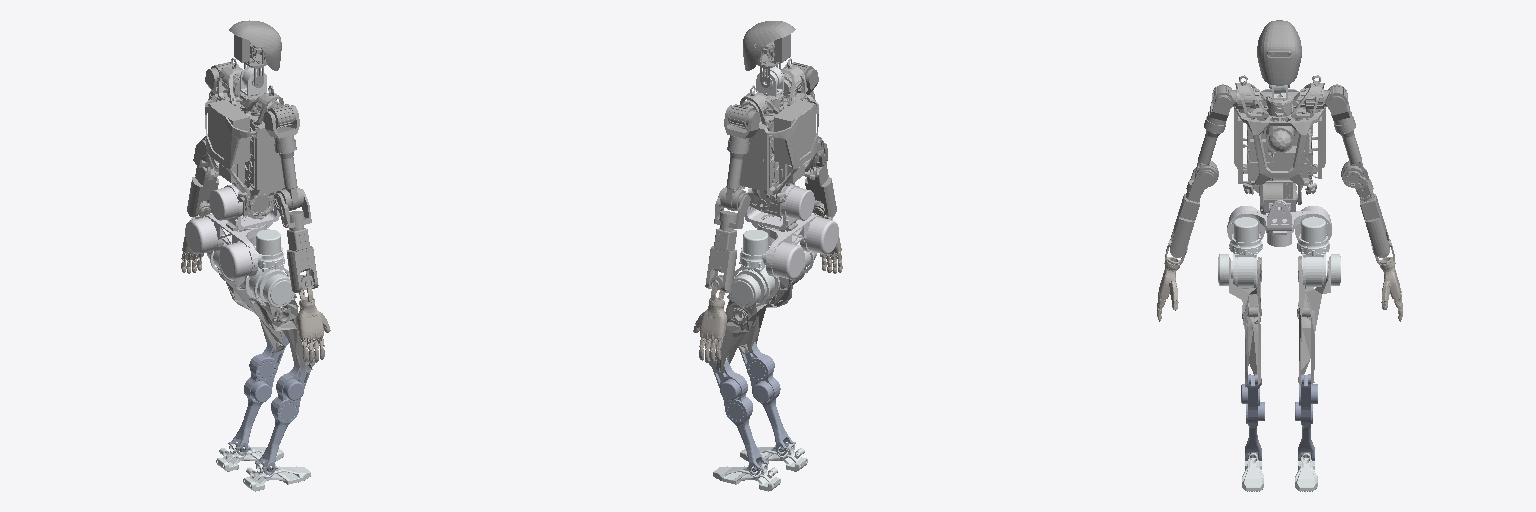
--- Render facts (derived) ---
The picture shows the robot from 3 angles, left to right: view 1: azimuth 30°, elevation 25°; view 2: azimuth 150°, elevation 25°; view 3: azimuth 270°, elevation 25°; orthographic projection.
Robot: OpenLoog — 34 links, 33 joints (12 revolute, 21 fixed); root link base; default pose: every joint at zero.
Links seen in each view (by area): view 1: base_link, Link_waist_yaw, Link_head_pitch, Link_knee_l_pitch, Link_knee_r_pitch, Link_arm_r_07, Link_hip_r_yaw, Link_waist_roll, Link_hip_r_pitch, Link_arm_r_05, Link_hip_l_pitch, Link_r_ankle_roll (+6 smaller); view 2: base_link, Link_waist_yaw, Link_head_pitch, Link_knee_l_pitch, Link_knee_r_pitch, Link_waist_roll, Link_arm_l_07, Link_hip_l_yaw, Link_hip_l_pitch, Link_arm_l_05, Link_l_ankle_roll, Link_hip_l_roll (+6 smaller); view 3: base_link, Link_head_pitch, Link_hip_r_pitch, Link_hip_l_pitch, Link_waist_yaw, Link_knee_l_pitch, Link_knee_r_pitch, Link_hip_r_yaw, Link_hip_l_yaw, Link_arm_l_05, Link_arm_r_05, Link_hip_r_roll (+12 smaller).
Boxes of the visible links, x1,y1,x2,y2 form: base_link: (205, 58, 287, 218); Link_waist_yaw: (185, 214, 272, 279); Link_head_pitch: (229, 20, 281, 87); Link_knee_l_pitch: (228, 331, 288, 455); Link_knee_r_pitch: (255, 350, 315, 475); Link_arm_r_07: (297, 280, 330, 362); Link_hip_r_yaw: (244, 265, 294, 307); Link_waist_roll: (209, 185, 279, 229); Link_hip_r_pitch: (255, 294, 312, 372); Link_arm_r_05: (287, 228, 318, 292); Link_hip_l_pitch: (217, 267, 284, 352); Link_r_ankle_roll: (243, 463, 310, 491); base_link: (738, 58, 818, 211); Link_waist_yaw: (752, 214, 838, 279); Link_head_pitch: (743, 21, 795, 87); Link_knee_l_pitch: (708, 350, 768, 475); Link_knee_r_pitch: (738, 342, 795, 455); Link_waist_roll: (745, 185, 814, 229); Link_arm_l_07: (693, 280, 726, 362); Link_hip_l_yaw: (729, 264, 779, 307); Link_hip_l_pitch: (716, 295, 768, 371); Link_arm_l_05: (705, 228, 736, 292); Link_l_ankle_roll: (713, 464, 780, 491); Link_hip_l_roll: (739, 230, 768, 268); base_link: (1234, 75, 1325, 211); Link_head_pitch: (1257, 20, 1301, 87); Link_hip_r_pitch: (1229, 257, 1261, 388); Link_hip_l_pitch: (1297, 256, 1330, 385); Link_waist_yaw: (1227, 206, 1331, 246); Link_knee_l_pitch: (1295, 374, 1317, 460); Link_knee_r_pitch: (1241, 374, 1264, 460); Link_hip_r_yaw: (1218, 253, 1256, 290); Link_hip_l_yaw: (1302, 254, 1340, 288); Link_arm_l_05: (1360, 194, 1389, 257); Link_arm_r_05: (1170, 194, 1199, 257); Link_hip_r_roll: (1229, 217, 1262, 255).
Bounding box of the posed robot: 0.3803 × 0.8769 × 1.75 m (x, y, z).
Meshes: 32 distinct files referenced, 32 mesh visuals loaded (32 binary STL).

The robot description file, URDF, robot "OpenLoog":
<?xml version="1.0" encoding="utf-8"?>
<!-- This URDF was automatically created by SolidWorks to URDF Exporter! Originally created by Stephen Brawner ([email redacted]) 
     Commit Version: 1.6.0-4-g7f85cfe  Build Version: 1.6.7995.38578
     For more information, please see http://wiki.ros.org/sw_urdf_exporter -->
<robot
  name="OpenLoog">
     
  <!-- <mujoco>
    <compiler 
    meshdir="" 
    balanceinertia="true" 
    discardvisual="false" />
  </mujoco> -->

  <!-- ros_control plugin -->
  <gazebo>
    <plugin filename="libgazebo_ros_control.so" name="gazebo_ros_control">
      <robotNamespace>/openloong_gazebo</robotNamespace>
      <robotSimType>gazebo_ros_control/DefaultRobotHWSim</robotSimType>
    </plugin>
  </gazebo>

    <gazebo>
    <plugin filename="libgazebo_ros_force.so" name="gazebo_ros_force">
      <bodyName>base_link</bodyName>
      <topicName>/apply_force/base_link</topicName>
    </plugin>
  </gazebo>

  <gazebo reference="imu_link">
    <gravity>true</gravity>
    <sensor name="imu_sensor" type="imu">
      <always_on>true</always_on>
      <update_rate>1000</update_rate>
      <visualize>true</visualize>
      <topic>__default_topic__</topic>
      <plugin filename="libgazebo_ros_imu_sensor.so" name="imu_plugin">
        <topicName>base_link_imu</topicName>
        <bodyName>imu_link</bodyName>
        <updateRateHZ>1000.0</updateRateHZ>
        <gaussianNoise>0.0</gaussianNoise>
        <xyzOffset>0 0 0</xyzOffset>
        <rpyOffset>0 0 0</rpyOffset>
        <frameName>imu_link</frameName>
      </plugin>
      <pose>0 0 0 0 0 0</pose>
    </sensor>
  </gazebo>

  <gazebo reference="base">
    <material>Gazebo/DarkGrey</material>
    <turnGravityOff>false</turnGravityOff>
  </gazebo>
  <gazebo reference="base_link">
    <mu1>0.2</mu1>
    <mu2>0.2</mu2>
    <kp value="1000000.0"/>
    <kd value="1.0"/>
  </gazebo>
  <gazebo reference="imu_link">
    <mu1>0.2</mu1>
    <mu2>0.2</mu2>
    <material>Gazebo/Red</material>
  </gazebo>
  <!-- left leg -->
  <gazebo reference="Link_hip_l_roll">
    <mu1>0.2</mu1>
    <mu2>0.2</mu2>
    <self_collide>1</self_collide>
    <material>Gazebo/DarkGrey</material>
  </gazebo>
  <gazebo reference="Link_hip_l_yaw">
    <mu1>0.2</mu1>
    <mu2>0.2</mu2>
    <self_collide>1</self_collide>
    <material>Gazebo/DarkGrey</material>
  </gazebo>
  <gazebo reference="Link_hip_l_pitch">
    <mu1>0.2</mu1>
    <mu2>0.2</mu2>
    <self_collide>1</self_collide>
    <material>Gazebo/DarkGrey</material>
  </gazebo>
  <gazebo reference="Link_knee_l_pitch">
    <mu1>0.2</mu1>
    <mu2>0.2</mu2>
    <self_collide>1</self_collide>
    <material>Gazebo/DarkGrey</material>
  </gazebo>
  <gazebo reference="Link_l_ankle_pitch">
    <mu1>1.0</mu1>
    <mu2>1.0</mu2>
    <self_collide>1</self_collide>
    <kp value="1000000.0"/>
    <kd value="1.0"/>
    <material>Gazebo/DarkGrey</material>
  </gazebo>
  <gazebo reference="Link_l_ankle_roll">
    <mu1>1.0</mu1>
    <mu2>1.0</mu2>
    <self_collide>1</self_collide>
    <kp value="1000000.0"/>
    <kd value="1.0"/>
    <material>Gazebo/DarkGrey</material>
  </gazebo>

  <!-- right leg -->
  <gazebo reference="Link_hip_r_roll">
    <mu1>0.2</mu1>
    <mu2>0.2</mu2>
    <self_collide>1</self_collide>
    <material>Gazebo/DarkGrey</material>
  </gazebo>
  <gazebo reference="Link_hip_r_yaw">
    <mu1>0.2</mu1>
    <mu2>0.2</mu2>
    <self_collide>1</self_collide>
    <material>Gazebo/DarkGrey</material>
  </gazebo>
  <gazebo reference="Link_hip_r_pitch">
    <mu1>0.2</mu1>
    <mu2>0.2</mu2>
    <self_collide>1</self_collide>
    <material>Gazebo/DarkGrey</material>
  </gazebo>
  <gazebo reference="Link_knee_r_pitch">
    <mu1>0.2</mu1>
    <mu2>0.2</mu2>
    <self_collide>1</self_collide>
    <material>Gazebo/DarkGrey</material>
  </gazebo>
  <gazebo reference="Link_r_ankle_pitch">
    <mu1>1.0</mu1>
    <mu2>1.0</mu2>
    <self_collide>1</self_collide>
    <kp value="1000000.0"/>
    <kd value="1.0"/>
    <material>Gazebo/DarkGrey</material>
  </gazebo>
  <gazebo reference="Link_r_ankle_roll">
    <mu1>1.0</mu1>
    <mu2>1.0</mu2>
    <self_collide>1</self_collide>
    <kp value="1000000.0"/>
    <kd value="1.0"/>
    <material>Gazebo/DarkGrey</material>
  </gazebo>

  <material name="black">
    <color rgba="0.0 0.0 0.0 1.0"/>
  </material>
  <material name="blue">
    <color rgba="0.0 0.0 0.8 1.0"/>
  </material>
  <material name="green">
    <color rgba="0.0 0.8 0.0 1.0"/>
  </material>
  <material name="grey">
    <color rgba="0.2 0.2 0.2 1.0"/>
  </material>
  <material name="silver">
    <color rgba="0.913725490196 0.913725490196 0.847058823529 1.0"/>
  </material>
  <material name="orange">
    <color rgba="0.12 0.15 0.2 1.0"/>
  </material>
  <material name="brown">
    <color rgba="0.870588235294 0.811764705882 0.764705882353 1.0"/>
  </material>
  <material name="red">
    <color rgba="0.8 0.0 0.0 1.0"/>
  </material>
  <material name="white">
    <color rgba="1.0 1.0 1.0 1.0"/>
  </material>
  <!-- [CAUTION] uncomment when convert to mujoco
  <link name="world"></link>
  <joint name="floating_base_joint" type="floating">
    <parent link="world" />
    <child link="base_link" />
  </joint> -->

  <link name="base">
    <visual>
      <origin rpy="0 0 0" xyz="0 0 0"/>
      <geometry>
        <box size="0.001 0.001 0.001"/>
      </geometry>
    </visual>
  </link>
  <joint name="floating_base" type="fixed">
    <origin rpy="0 0 0" xyz="0 0 0"/>
    <parent link="base"/>
    <child link="base_link"/>
  </joint>

  <link
    name="base_link">
    <inertial>
      <origin
        xyz="-0.0056641 -0.0013367 0.23829"
        rpy="0 0 0" />
      <mass
        value="22.447" />
      <inertia
        ixx="0.3742"
        ixy="0.0009471"
        ixz="0.004646"
        iyy="0.27691"
        iyz="0.0040142"
        izz="0.22104" />
    </inertial>
    <visual>
      <origin
        xyz="0 0 0"
        rpy="0 0 0" />
      <geometry>
        <mesh
          filename="package://openloong_description/meshes/base_link.STL" />
      </geometry>
      <material
        name="">
        <color
          rgba="0.75294 0.75294 0.75294 1" />
      </material>
    </visual>
     <collision>
      <origin xyz="0 0 0.16" rpy="0 0 0" />
      <geometry>
        <box size="0.35 0.25 0.35"/>
      </geometry>
    </collision>
    <!-- <collision>
      <origin
        xyz="0 0 0"
        rpy="0 0 0" />
      <geometry>
        <mesh
          filename="package://openloong_description/meshes/base_link.STL" />
      </geometry>
    </collision> -->
  </link>
  <link
    name="Link_head_yaw">
    <inertial>
      <origin
        xyz="4.6974E-12 -0.0020814 0.044801"
        rpy="0 0 0" />
      <mass
        value="0.84249" />
      <inertia
        ixx="0.000629"
        ixy="1.2848E-14"
        ixz="-1.5461E-10"
        iyy="0.0007003"
        iyz="-6.5E-06"
        izz="0.0005541" />
    </inertial>
    <visual>
      <origin
        xyz="0 0 0"
        rpy="0 0 0" />
      <geometry>
        <mesh
          filename="package://openloong_description/meshes/Link_head_yaw.STL" />
      </geometry>
      <material
        name="">
        <color
          rgba="0.89804 0.91765 0.92941 1" />
      </material>
    </visual>
    <collision>
      <origin
        xyz="0 0 0"
        rpy="0 0 0" />
      <geometry>
        <mesh
          filename="package://openloong_description/meshes/Link_head_yaw.STL" />
      </geometry>
    </collision>
  </link>
  <joint
    name="J_head_yaw"
    type="fixed">
    <origin
      xyz="0.009 0 0.4064"
      rpy="0 0 0" />
    <parent
      link="base_link" />
    <child
      link="Link_head_yaw" />
    <axis
      xyz="0 0 1" />
    <limit
      lower="-1.5708"
      upper="1.5708"
      effort="26"
      velocity="109.8" />
  </joint>
  <link
    name="Link_head_pitch">
    <inertial>
      <origin
        xyz="0.020569 0.033004 0.125"
        rpy="0 0 0" />
      <mass
        value="1.3943" />
      <inertia
        ixx="0.0060059"
        ixy="9.4E-06"
        ixz="-0.0007564"
        iyy="0.00629"
        iyz="1.03E-05"
        izz="0.0048569" />
    </inertial>
    <visual>
      <origin
        xyz="0 0 0"
        rpy="0 0 0" />
      <geometry>
        <mesh
          filename="package://openloong_description/meshes/Link_head_pitch.STL" />
      </geometry>
      <material
        name="">
        <color
          rgba="0.69804 0.69804 0.69804 1" />
      </material>
    </visual>
    <collision>
      <origin
        xyz="0 0 0"
        rpy="0 0 0" />
      <geometry>
        <mesh
          filename="package://openloong_description/meshes/Link_head_pitch.STL" />
      </geometry>
    </collision>
  </link>
  <joint
    name="J_head_pitch"
    type="fixed">
    <origin
      xyz="0 -0.0345999999999997 0.0484999999999999"
      rpy="0 0 0" />
    <parent
      link="Link_head_yaw" />
    <child
      link="Link_head_pitch" />
    <axis
      xyz="0 -1 0" />
    <limit
      lower="-0.7854"
      upper="0.7854"
      effort="26"
      velocity="109.8" />
  </joint>
  <link
    name="Link_arm_r_01">
    <inertial>
      <origin
        xyz="0.0044946 -0.038294 -1.8744E-06"
        rpy="0 0 0" />
      <mass
        value="0.75641" />
      <inertia
        ixx="0.00058712"
        ixy="-2.9803E-07"
        ixz="-5.8378E-09"
        iyy="0.00080305"
        iyz="3.6648E-08"
        izz="0.00084299" />
    </inertial>
    <visual>
      <origin
        xyz="0 0 0"
        rpy="0 0 0" />
      <geometry>
        <mesh
          filename="package://openloong_description/meshes/Link_arm_r_01.STL" />
      </geometry>
      <material
        name="">
        <color
          rgba="0.69804 0.69804 0.69804 1" />
      </material>
    </visual>
    <collision>
      <origin
        xyz="0 0 0"
        rpy="0 0 0" />
      <geometry>
        <mesh
          filename="package://openloong_description/meshes/Link_arm_r_01.STL" />
      </geometry>
    </collision>
  </link>
  <joint
    name="r_arm_01"
    type="fixed">
    <origin
      xyz="0.004 -0.1616 0.3922"
      rpy="0 3.14 0" />
    <parent
      link="base_link" />
    <child
      link="Link_arm_r_01" />
    <axis
      xyz="0 -1 0" />
    <limit
      lower="-2.96706"
      upper="2.96706"
      effort="80"
      velocity="3.14" />
  </joint>
  <link
    name="Link_arm_r_02">
    <inertial>
      <origin
        xyz="0.042 -0.0674307499121858 -6.93889390390723E-18"
        rpy="0 0 0" />
      <mass
        value="0.984999996273518" />
      <inertia
        ixx="0.0017309882399251"
        ixy="9.79515256436727E-20"
        ixz="3.63988309726277E-19"
        iyy="0.00115401958000568"
        iyz="-4.42134220053852E-19"
        izz="0.00226269324370836" />
    </inertial>
    <visual>
      <origin
        xyz="0 0 0"
        rpy="0 0 0" />
      <geometry>
        <mesh
          filename="package://openloong_description/meshes/Link_arm_r_02.STL" />
      </geometry>
      <material
        name="">
        <color
          rgba="0.698039215686274 0.698039215686274 0.698039215686274 1" />
      </material>
    </visual>
    <collision>
      <origin
        xyz="0 0 0"
        rpy="0 0 0" />
      <geometry>
        <mesh
          filename="package://openloong_description/meshes/Link_arm_r_02.STL" />
      </geometry>
    </collision>
  </link>
  <joint
    name="r_arm_02"
    type="fixed">
    <origin
      xyz="-0.042 -0.041 0"
      rpy="-1.3 0 0" />
    <parent
      link="Link_arm_r_01" />
    <child
      link="Link_arm_r_02" />
    <axis
      xyz="-1 0 0" />
    <limit
      lower="-1.83260"
      upper="1.83260"
      effort="80"
      velocity="3.14" />
  </joint>
  <link
    name="Link_arm_r_03">
    <inertial>
      <origin
        xyz="-0.00141357502419955 -0.164662742175383 0.0207578924800774"
        rpy="0 0 0" />
      <mass
        value="0.958999855228924" />
      <inertia
        ixx="0.00206438134078715"
        ixy="-1.82014067823509E-05"
        ixz="5.1283136963991E-06"
        iyy="0.00080535412926664"
        iyz="0.000255265992194607"
        izz="0.00205099914609259" />
    </inertial>
    <visual>
      <origin
        xyz="0 0 0"
        rpy="0 0 0" />
      <geometry>
        <mesh
          filename="package://openloong_description/meshes/Link_arm_r_03.STL" />
      </geometry>
      <material
        name="">
        <color
          rgba="0.698039215686274 0.698039215686274 0.698039215686274 1" />
      </material>
    </visual>
    <collision>
      <origin
        xyz="0 0 0"
        rpy="0 0 0" />
      <geometry>
        <mesh
          filename="package://openloong_description/meshes/Link_arm_r_03.STL" />
      </geometry>
    </collision>
  </link>
  <joint
    name="r_arm_03"
    type="fixed">
    <origin
      xyz="0.042 -0.1226 0"
      rpy="0 0 0" />
    <parent
      link="Link_arm_r_02" />
    <child
      link="Link_arm_r_03" />
    <axis
      xyz="0 -1 0" />
    <limit
      lower="-2.96706"
      upper="2.96706"
      effort="48"
      velocity="3.14" />
  </joint>
  <link
    name="Link_arm_r_04">
    <inertial>
      <origin
        xyz="-0.038727 -0.060767 -0.021003"
        rpy="0 0 0" />
      <mass
        value="0.6" />
      <inertia
        ixx="0.00070398"
        ixy="2.023E-05"
        ixz="1.1263E-05"
        iyy="0.00068085"
        iyz="-0.00010585"
        izz="0.0010653" />
    </inertial>
    <visual>
      <origin
        xyz="0 0 0"
        rpy="0 0 0" />
      <geometry>
        <mesh
          filename="package://openloong_description/meshes/Link_arm_r_04.STL" />
      </geometry>
      <material
        name="">
        <color
          rgba="0.69804 0.69804 0.69804 1" />
      </material>
    </visual>
    <collision>
      <origin
        xyz="0 0 0"
        rpy="0 0 0" />
      <geometry>
        <mesh
          filename="package://openloong_description/meshes/Link_arm_r_04.STL" />
      </geometry>
    </collision>
  </link>
  <joint
    name="r_arm_04"
    type="fixed">
    <origin
      xyz="0.0353 -0.1774 0.024"
      rpy="0 0 0" />
    <parent
      link="Link_arm_r_03" />
    <child
      link="Link_arm_r_04" />
    <axis
      xyz="-1 0 0" />
    <limit
      lower="0"
      upper="2.96706"
      effort="48"
      velocity="3.14" />
  </joint>
  <link
    name="Link_arm_r_05">
    <inertial>
      <origin
        xyz="3.2712E-05 -0.068658 -0.00011178"
        rpy="0 0 0" />
      <mass
        value="0.68976" />
      <inertia
        ixx="0.0025225"
        ixy="-4E-07"
        ixz="8E-07"
        iyy="0.0004487"
        iyz="3.1E-06"
        izz="0.0024111" />
    </inertial>
    <visual>
      <origin
        xyz="0 0 0"
        rpy="0 0 0" />
      <geometry>
        <mesh
          filename="package://openloong_description/meshes/Link_arm_r_05.STL" />
      </geometry>
      <material
        name="">
        <color
          rgba="0.69804 0.69804 0.69804 1" />
      </material>
    </visual>
    <collision>
      <origin
        xyz="0 0 0"
        rpy="0 0 0" />
      <geometry>
        <mesh
          filename="package://openloong_description/meshes/Link_arm_r_05.STL" />
      </geometry>
    </collision>
  </link>
  <joint
    name="r_arm_05"
    type="fixed">
    <origin
      xyz="-0.0353 -0.1035 -0.024"
      rpy="0 0 0" />
    <parent
      link="Link_arm_r_04" />
    <child
      link="Link_arm_r_05" />
    <axis
      xyz="0 -1 0" />
    <limit
      lower="-2.96706"
      upper="2.96706"
      effort="12.4"
      velocity="6.28" />
  </joint>
  <link
    name="Link_arm_r_06">
    <inertial>
      <origin
        xyz="0.026078 -8.9588E-07 0.0016637"
        rpy="0 0 0" />
      <mass
        value="0.28" />
      <inertia
        ixx="0.0001456"
        ixy="-7.7026E-10"
        ixz="-2.1456E-07"
        iyy="0.00015693"
        iyz="-2.4102E-09"
        izz="0.00010498" />
    </inertial>
    <visual>
      <origin
        xyz="0 0 0"
        rpy="0 0 0" />
      <geometry>
        <mesh
          filename="package://openloong_description/meshes/Link_arm_r_06.STL" />
      </geometry>
      <material
        name="">
        <color
          rgba="0.69804 0.69804 0.69804 1" />
      </material>
    </visual>
    <collision>
      <origin
        xyz="0 0 0"
        rpy="0 0 0" />
      <geometry>
        <mesh
          filename="package://openloong_description/meshes/Link_arm_r_06.STL" />
      </geometry>
    </collision>
  </link>
  <joint
    name="r_arm_06"
    type="fixed">
    <origin
      xyz="-0.0265 -0.1965 0"
      rpy="0 0 0" />
    <parent
      link="Link_arm_r_05" />
    <child
      link="Link_arm_r_06" />
    <axis
      xyz="1 0 0" />
    <limit
      lower="-1.8326"
      upper="1.8326"
      effort="12.4"
      velocity="6.28" />
  </joint>
  <link
    name="Link_arm_r_07">
    <inertial>
      <origin
        xyz="-0.007859 -0.15817 -0.027736"
        rpy="0 0 0" />
      <mass
        value="0.61354" />
      <inertia
        ixx="0.0025969"
        ixy="4.65E-05"
        ixz="-0.0001089"
        iyy="0.0007306"
        iyz="-1.47E-05"
        izz="0.0030104" />
    </inertial>
    <visual>
      <origin
        xyz="0 0 0"
        rpy="0 0 0" />
      <geometry>
        <mesh
          filename="package://openloong_description/meshes/Link_arm_r_07.STL" />
      </geometry>
      <material
        name="">
        <color
          rgba="0.77647 0.75686 0.73725 1" />
      </material>
    </visual>
    <collision>
      <origin
        xyz="0 0 0"
        rpy="0 0 0" />
      <geometry>
        <mesh
          filename="package://openloong_description/meshes/Link_arm_r_07.STL" />
      </geometry>
    </collision>
  </link>
  <joint
    name="r_arm_07"
    type="fixed">
    <origin
      xyz="0.0265 0 0.0318"
      rpy="0 0 0" />
    <parent
      link="Link_arm_r_06" />
    <child
      link="Link_arm_r_07" />
    <axis
      xyz="0 0 1" />
    <limit
      lower="-1.04720"
      upper="1.04720"
      effort="12.4"
      velocity="6.28" />
  </joint>
  <link
    name="Link_arm_l_01">
    <inertial>
      <origin
        xyz="-0.00449464987882542 0.0382942125981936 -1.874402432607E-06"
        rpy="0 0 0" />
      <mass
        value="0.756406339732892" />
      <inertia
        ixx="0.000587115683146372"
        ixy="-2.98026052651538E-07"
        ixz="5.83781087215966E-09"
        iyy="0.000803052813361661"
        iyz="-3.66476835396106E-08"
        izz="0.000842985653484675" />
    </inertial>
    <visual>
      <origin
        xyz="0 0 0"
        rpy="0 0 0" />
      <geometry>
        <mesh
          filename="package://openloong_description/meshes/Link_arm_l_01.STL" />
      </geometry>
      <material
        name="">
        <color
          rgba="0.698039215686274 0.698039215686274 0.698039215686274 1" />
      </material>
    </visual>
    <collision>
      <origin
        xyz="0 0 0"
        rpy="0 0 0" />
      <geometry>
        <mesh
          filename="package://openloong_description/meshes/Link_arm_l_01.STL" />
      </geometry>
    </collision>
  </link>
  <joint
    name="l_arm_01"
    type="fixed">
    <origin
      xyz="0.004 0.1616 0.3922"
      rpy="0 3.14 0" />
    <parent
      link="base_link" />
    <child
      link="Link_arm_l_01" />
    <axis
      xyz="0 1 0" />
    <limit
      lower="-2.96706"
      upper="2.96706"
      effort="80"
      velocity="3.14" />
  </joint>
  <link
    name="Link_arm_l_02">
    <inertial>
      <origin
        xyz="-0.042 0.0674307499121858 1.38777878078145E-17"
        rpy="0 0 0" />
      <mass
        value="0.984999996273518" />
      <inertia
        ixx="0.0017309882399251"
        ixy="1.48322871384691E-19"
        ixz="1.94588987195478E-19"
        iyy="0.00115401958000568"
        iyz="6.15989345249147E-19"
        izz="0.00226269324370836" />
    </inertial>
    <visual>
      <origin
        xyz="0 0 0"
        rpy="0 0 0" />
      <geometry>
        <mesh
          filename="package://openloong_description/meshes/Link_arm_l_02.STL" />
      </geometry>
      <material
        name="">
        <color
          rgba="0.698039215686274 0.698039215686274 0.698039215686274 1" />
      </material>
    </visual>
    <collision>
      <origin
        xyz="0 0 0"
        rpy="0 0 0" />
      <geometry>
        <mesh
          filename="package://openloong_description/meshes/Link_arm_l_02.STL" />
      </geometry>
    </collision>
  </link>
  <joint
    name="l_arm_02"
    type="fixed">
    <origin
      xyz="0.042 0.041 0"
      rpy="1.3 0 0" />
    <parent
      link="Link_arm_l_01" />
    <child
      link="Link_arm_l_02" />
    <axis
      xyz="-1 0 0" />
    <limit
      lower="-1.83260"
      upper="1.83260"
      effort="80"
      velocity="3.14" />
  </joint>
  <link
    name="Link_arm_l_03">
    <inertial>
      <origin
        xyz="0.00141357502419956 0.164662742175383 0.0207578924800774"
        rpy="0 0 0" />
      <mass
        value="0.958999855228925" />
      <inertia
        ixx="0.00206438134078715"
        ixy="-1.82014067823508E-05"
        ixz="-5.12831369639908E-06"
        iyy="0.000805354129266641"
        iyz="-0.000255265992194607"
        izz="0.00205099914609259" />
    </inertial>
    <visual>
      <origin
        xyz="0 0 0"
        rpy="0 0 0" />
      <geometry>
        <mesh
          filename="package://openloong_description/meshes/Link_arm_l_03.STL" />
      </geometry>
      <material
        name="">
        <color
          rgba="0.698039215686274 0.698039215686274 0.698039215686274 1" />
      </material>
    </visual>
    <collision>
      <origin
        xyz="0 0 0"
        rpy="0 0 0" />
      <geometry>
        <mesh
          filename="package://openloong_description/meshes/Link_arm_l_03.STL" />
      </geometry>
    </collision>
  </link>
  <joint
    name="l_arm_03"
    type="fixed">
    <origin
      xyz="-0.042 0.1226 0"
      rpy="0 0 0" />
    <parent
      link="Link_arm_l_02" />
    <child
      link="Link_arm_l_03" />
    <axis
      xyz="0 1 0" />
    <limit
      lower="-2.96706"
      upper="2.96706"
      effort="48"
      velocity="3.14" />
  </joint>
  <link
    name="Link_arm_l_04">
    <inertial>
      <origin
        xyz="0.038726985904266 0.0607672244593032 -0.0210032450980798"
        rpy="0 0 0" />
      <mass
        value="0.60000012303258" />
      <inertia
        ixx="0.000703976141425558"
        ixy="2.02301178076816E-05"
        ixz="-1.12633779930363E-05"
        iyy="0.000680850033983237"
        iyz="0.000105852227353173"
        izz="0.00106526266740194" />
    </inertial>
    <visual>
      <origin
        xyz="0 0 0"
        rpy="0 0 0" />
      <geometry>
        <mesh
          filename="package://openloong_description/meshes/Link_arm_l_04.STL" />
      </geometry>
      <material
        name="">
        <color
          rgba="0.698039215686274 0.698039215686274 0.698039215686274 1" />
      </material>
    </visual>
    <collision>
      <origin
        xyz="0 0 0"
        rpy="0 0 0" />
      <geometry>
        <mesh
          filename="package://openloong_description/meshes/Link_arm_l_04.STL" />
      </geometry>
    </collision>
  </link>
  <joint
    name="l_arm_04"
    type="fixed">
    <origin
      xyz="-0.0353 0.1774 0.024"
      rpy="0 0 0" />
    <parent
      link="Link_arm_l_03" />
    <child
      link="Link_arm_l_04" />
    <axis
      xyz="1 0 0" />
    <limit
      lower="0"
      upper="2.96706"
      effort="48"
      velocity="3.14" />
  </joint>
  <link
    name="Link_arm_l_05">
    <inertial>
      <origin
        xyz="-3.2712E-05 0.068658 -0.00011178"
        rpy="0 0 0" />
      <mass
        value="0.68976" />
      <inertia
        ixx="0.0025225"
        ixy="-4E-07"
        ixz="-8E-07"
        iyy="0.0004487"
        iyz="-3.1E-06"
        izz="0.0024111" />
    </inertial>
    <visual>
      <origin
        xyz="0 0 0"
        rpy="0 0 0" />
      <geometry>
        <mesh
          filename="package://openloong_description/meshes/Link_arm_l_05.STL" />
      </geometry>
      <material
        name="">
        <color
          rgba="0.69804 0.69804 0.69804 1" />
      </material>
    </visual>
    <collision>
      <origin
        xyz="0 0 0"
        rpy="0 0 0" />
      <geometry>
        <mesh
          filename="package://openloong_description/meshes/Link_arm_l_05.STL" />
      </geometry>
    </collision>
  </link>
  <joint
    name="l_arm_05"
    type="fixed">
    <origin
      xyz="0.0353 0.1035 -0.024"
      rpy="0 0 0" />
    <parent
      link="Link_arm_l_04" />
    <child
      link="Link_arm_l_05" />
    <axis
      xyz="0 1 0" />
    <limit
      lower="-2.96706"
      upper="2.96706"
      effort="12.4"
      velocity="6.28" />
  </joint>
  <link
    name="Link_arm_l_06">
    <inertial>
      <origin
        xyz="-0.0260776548825596 8.95877202866657E-07 0.00166373234012217"
        rpy="0 0 0" />
      <mass
        value="0.280000012776158" />
      <inertia
        ixx="0.000145596926990102"
        ixy="-7.70263046256849E-10"
        ixz="2.14557176368931E-07"
        iyy="0.000156926535065694"
        iyz="2.41022657678511E-09"
        izz="0.000104981940665913" />
    </inertial>
    <visual>
      <origin
        xyz="0 0 0"
        rpy="0 0 0" />
      <geometry>
        <mesh
          filename="package://openloong_description/meshes/Link_arm_l_06.STL" />
      </geometry>
      <material
        name="">
        <color
          rgba="0.698039215686274 0.698039215686274 0.698039215686274 1" />
      </material>
    </visual>
    <collision>
      <origin
        xyz="0 0 0"
        rpy="0 0 0" />
      <geometry>
        <mesh
          filename="package://openloong_description/meshes/Link_arm_l_06.STL" />
      </geometry>
    </collision>
  </link>
  <joint
    name="l_arm_06"
    type="fixed">
    <origin
      xyz="0.0265 0.1965 0"
      rpy="0 0 0" />
    <parent
      link="Link_arm_l_05" />
    <child
      link="Link_arm_l_06" />
    <axis
      xyz="-1 0 0" />
    <limit
      lower="-1.8326"
      upper="1.8326"
      effort="12.4"
      velocity="6.28" />
  </joint>
  <link
    name="Link_arm_l_07">
    <inertial>
      <origin
        xyz="-0.0077872 0.15705 -0.027733"
        rpy="0 0 0" />
      <mass
        value="0.61354" />
      <inertia
        ixx="0.0025964"
        ixy="-4.66E-05"
        ixz="-0.0001089"
        iyy="0.0007306"
        iyz="1.47E-05"
        izz="0.00301" />
    </inertial>
    <visual>
      <origin
        xyz="0 0 0"
        rpy="0 0 0" />
      <geometry>
        <mesh
          filename="package://openloong_description/meshes/Link_arm_l_07.STL" />
      </geometry>
      <material
        name="">
        <color
          rgba="0.77647 0.75686 0.73725 1" />
      </material>
    </visual>
    <collision>
      <origin
        xyz="0 0 0"
        rpy="0 0 0" />
      <geometry>
        <mesh
          filename="package://openloong_description/meshes/Link_arm_l_07.STL" />
      </geometry>
    </collision>
  </link>
  <joint
    name="l_arm_07"
    type="fixed">
    <origin
      xyz="-0.0265 0 0.0318"
      rpy="0 0 0" />
    <parent
      link="Link_arm_l_06" />
    <child
      link="Link_arm_l_07" />
    <axis
      xyz="0 0 1" />
    <limit
      lower="-1.04720"
      upper="1.04720"
      effort="12.4"
      velocity="6.28" />
  </joint>
  <link
    name="Link_waist_pitch">
    <inertial>
      <origin
        xyz="-0.00073496 0.049925 -2.9695E-05"
        rpy="0 0 0" />
      <mass
        value="2.6964" />
      <inertia
        ixx="0.0051971"
        ixy="-4.37E-05"
        ixz="3E-07"
        iyy="0.0047413"
        iyz="6E-06"
        izz="0.0061906" />
    </inertial>
    <visual>
      <origin
        xyz="0 0 0"
        rpy="0 0 0" />
      <geometry>
        <mesh
          filename="package://openloong_description/meshes/Link_waist_pitch.STL" />
      </geometry>
      <material
        name="">
        <color
          rgba="0.69804 0.69804 0.69804 1" />
      </material>
    </visual>
    <!-- <collision>
      <origin
        xyz="0 0 0"
        rpy="0 0 0" />
      <geometry>
        <mesh
          filename="package://openloong_description/meshes/Link_waist_pitch.STL" />
      </geometry>
    </collision> -->
  </link>
  <joint
    name="J_waist_pitch"
    type="fixed">
    <origin
      xyz="0 -0.06525 0"
      rpy="0 0 0" />
    <parent
      link="base_link" />
    <child
      link="Link_waist_pitch" />
    <axis
      xyz="0 -1 0" />
    <limit
      lower="-0.29671"
      upper="0.78540"
      effort="315"
      velocity="3.72" />
  </joint>
  <link
    name="Link_waist_roll">
    <inertial>
      <origin
        xyz="-0.0037424 -0.001 -0.016856"
        rpy="0 0 0" />
      <mass
        value="2.9806" />
      <inertia
        ixx="0.0071327"
        ixy="0"
        ixz="-0.00358"
        iyy="0.018825"
        iyz="0"
        izz="0.016056" />
    </inertial>
    <visual>
      <origin
        xyz="0 0 0"
        rpy="0 0 0" />
      <geometry>
        <mesh
          filename="package://openloong_description/meshes/Link_waist_roll.STL" />
      </geometry>
      <material
        name="">
        <color
          rgba="0.8902 0.8902 0.91373 1" />
      </material>
    </visual>
    <!-- <collision>
      <origin
        xyz="0 0 0"
        rpy="0 0 0" />
      <geometry>
        <mesh
          filename="package://openloong_description/meshes/Link_waist_roll.STL" />
      </geometry>
    </collision> -->
  </link>
  <joint
    name="J_waist_roll"
    type="fixed">
    <origin
      xyz="-0.064 0.0655 0"
      rpy="0 0 0" />
    <parent
      link="Link_waist_pitch" />
    <child
      link="Link_waist_roll" />
    <axis
      xyz="1 0 0" />
    <limit
      lower="-0.69813"
      upper="0.69813"
      effort="315"
      velocity="3.72" />
  </joint>
  <link
    name="Link_waist_yaw">
    <inertial>
      <origin
        xyz="-0.096172 -0.001 -0.057836"
        rpy="0 0 0" />
      <mass
        value="7.3588" />
      <inertia
        ixx="0.091635"
        ixy="0"
        ixz="0.0058036"
        iyy="0.032766"
        iyz="0"
        izz="0.10764" />
    </inertial>
    <visual>
      <origin
        xyz="0 0 0"
        rpy="0 0 0" />
      <geometry>
        <mesh
          filename="package://openloong_description/meshes/Link_waist_yaw.STL" />
      </geometry>
      <material
        name="">
        <color
          rgba="0.8902 0.8902 0.91373 1" />
      </material>
    </visual>
    <!-- <collision>
      <origin
        xyz="0 0 0"
        rpy="0 0 0" />
      <geometry>
        <mesh
          filename="package://openloong_description/meshes/Link_waist_yaw.STL" />
      </geometry>
    </collision> -->
  </link>
  <joint
    name="J_waist_yaw"
    type="fixed">
    <origin
      xyz="0.0675 0 -0.098"
      rpy="0 0 0" />
    <parent
      link="Link_waist_roll" />
    <child
      link="Link_waist_yaw" />
    <axis
      xyz="0 0 1" />
    <limit
      lower="-0.78540"
      upper="0.78540"
      effort="121"
      velocity="5.92" />
  </joint>
  <link
    name="Link_hip_r_roll">
    <inertial>
      <origin
        xyz="0.075725 -0.0010616 0.016591"
        rpy="0 0 0" />
      <mass
        value="2.4334" />
      <inertia
        ixx="0.0036961"
        ixy="-9E-07"
        ixz="0.0001644"
        iyy="0.0045067"
        iyz="6.3E-06"
        izz="0.0039063" />
    </inertial>
    <visual>
      <origin
        xyz="0 0 0"
        rpy="0 0 0" />
      <geometry>
        <mesh
          filename="package://openloong_description/meshes/Link_hip_r_roll.STL" />
      </geometry>
      <material
        name="">
        <color
          rgba="0.89804 0.91765 0.92941 1" />
      </material>
    </visual>
    <!-- <collision>
      <origin
        xyz="0 0 0"
        rpy="0 0 0" />
      <geometry>
        <mesh
          filename="package://openloong_description/meshes/Link_hip_r_roll.STL" />
      </geometry>
    </collision> -->
  </link>
  <joint
    name="r_hip_roll"
    type="revolute">
    <origin
      xyz="-0.0875 -0.12 -0.069"
      rpy="0 0 0" />
    <parent
      link="Link_waist_yaw" />
    <child
      link="Link_hip_r_roll" />
    <axis
      xyz="1 0 0" />
    <limit
      lower="-0.17453"
      upper="0.43633"
      effort="320"
      velocity="20.94" />
  </joint>
  <link
    name="Link_hip_r_yaw">
    <inertial>
      <origin
        xyz="-3.0911E-08 -0.0071356 -0.10063"
        rpy="0 0 0" />
      <mass
        value="3.4303" />
      <inertia
        ixx="0.0077365"
        ixy="0"
        ixz="0"
        iyy="0.0080807"
        iyz="0.0001167"
        izz="0.006641" />
    </inertial>
    <visual>
      <origin
        xyz="0 0 0"
        rpy="0 0 0" />
      <geometry>
        <mesh
          filename="package://openloong_description/meshes/Link_hip_r_yaw.STL" />
      </geometry>
      <material
        name="">
        <color
          rgba="0.89804 0.91765 0.92941 1" />
      </material>
    </visual>
    <!-- <collision>
      <origin
        xyz="0 0 0"
        rpy="0 0 0" />
      <geometry>
        <mesh
          filename="package://openloong_description/meshes/Link_hip_r_yaw.STL" />
      </geometry>
    </collision> -->
  </link>
  <joint
    name="r_hip_yaw"
    type="revolute">
    <origin
      xyz="0.08225 -0.001 -0.01"
      rpy="0 0 0" />
    <parent
      link="Link_hip_r_roll" />
    <child
      link="Link_hip_r_yaw" />
    <axis
      xyz="0 0 1" />
    <limit
      lower="-0.69813"
      upper="0.69813"
      effort="160"
      velocity="19.63" />
  </joint>
  <link
    name="Link_hip_r_pitch">
    <inertial>
      <origin
        xyz="0.0010856 -0.05497 -0.14535"
        rpy="0 0 0" />
      <mass
        value="5.2378" />
      <inertia
        ixx="0.043457"
        ixy="0.0002478"
        ixz="-0.0007626"
        iyy="0.037801"
        iyz="-0.0007431"
        izz="0.015183" />
    </inertial>
    <visual>
      <origin
        xyz="0 0 0"
        rpy="0 0 0" />
      <geometry>
        <mesh
          filename="package://openloong_description/meshes/Link_hip_r_pitch.STL" />
      </geometry>
      <material
        name="">
        <color
          rgba="0.69804 0.69804 0.69804 1" />
      </material>
    </visual>
    <collision>
      <origin
        xyz="0 0 0"
        rpy="0 0 0" />
      <geometry>
        <mesh
          filename="package://openloong_description/meshes/Link_hip_r_pitch.STL" />
      </geometry>
    </collision>
  </link>
  <joint
    name="r_hip_pitch"
    type="revolute">
    <origin
      xyz="0 0.03675 -0.1055"
      rpy="0 -0.4 0" />
    <parent
      link="Link_hip_r_yaw" />
    <child
      link="Link_hip_r_pitch" />
    <axis
      xyz="0 -1 0" />
    <limit
      lower="-0.78540"
      upper="1.83260"
      effort="396"
      velocity="19.16" />
  </joint>
  <link
    name="Link_knee_r_pitch">
    <inertial>
      <origin
        xyz="-0.0096425 2.9338E-06 -0.13601"
        rpy="0 0 0" />
      <mass
        value="2.9775" />
      <inertia
        ixx="0.02386"
        ixy="6.76E-05"
        ixz="-0.0004656"
        iyy="0.024184"
        iyz="-0.0005481"
        izz="0.0023083" />
    </inertial>
    <visual>
      <origin
        xyz="0 0 0"
        rpy="0 0 0" />
      <geometry>
        <mesh
          filename="package://openloong_description/meshes/Link_knee_r_pitch.STL" />
      </geometry>
      <material
        name="">
        <color
          rgba="0.66667 0.69804 0.76863 1" />
      </material>
    </visual>
    <!-- <collision>
      <origin
        xyz="0 0 0"
        rpy="0 0 0" />
      <geometry>
        <mesh
          filename="package://openloong_description/meshes/Link_knee_r_pitch.STL" />
      </geometry>
    </collision> -->
    <collision>
      <origin xyz="0 0 -0.2" rpy="0 0 0" />
      <geometry>
        <cylinder radius="0.05" length="0.2"/>
      </geometry>
    </collision>
  </link>
  <joint
    name="r_knee_pitch"
    type="revolute">
    <origin
      xyz="0 -0.01125 -0.4"
      rpy="0 0.8 0" />
    <parent
      link="Link_hip_r_pitch" />
    <child
      link="Link_knee_r_pitch" />
    <axis
      xyz="0 -1 0" />
    <limit
      lower="-2.35619"
      upper="0.08727"
      effort="396"
      velocity="19.16" />
  </joint>
  <link
    name="Link_r_ankle_pitch">
    <inertial>
      <origin
        xyz="-6.1835E-12 -1.2655E-07 -2.4682E-08"
        rpy="0 0 0" />
      <mass
        value="0.10145" />
      <inertia
        ixx="2.7175E-05"
        ixy="1.0023E-14"
        ixz="-8.1752E-13"
        iyy="6.1118E-06"
        iyz="2.6285E-11"
        izz="2.6565E-05" />
    </inertial>
    <visual>
      <origin
        xyz="0 0 0"
        rpy="0 0 0" />
      <geometry>
        <mesh
          filename="package://openloong_description/meshes/Link_r_ankle_pitch.STL" />
      </geometry>
      <material
        name="">
        <color
          rgba="0.52941 0.54902 0.54902 1" />
      </material>
    </visual>
    <!-- <collision>
      <origin
        xyz="0 0 0"
        rpy="0 0 0" />
      <geometry>
        <mesh
          filename="package://openloong_description/meshes/Link_r_ankle_pitch.STL" />
      </geometry>
    </collision> -->
  </link>
  <joint
    name="r_ankle_pitch"
    type="revolute">
    <origin
      xyz="0 0 -0.387"
      rpy="0 -0.4 0" />
    <parent
      link="Link_knee_r_pitch" />
    <child
      link="Link_r_ankle_pitch" />
    <axis
      xyz="0 -1 0" />
    <limit
      lower="-0.43633"
      upper="0.61087"
      effort="58.5"
      velocity="48.8" />
  </joint>
  <link
    name="Link_r_ankle_roll">
    <inertial>
      <origin
        xyz="0.041078 -8.9152E-08 -0.043909"
        rpy="0 0 0" />
      <mass
        value="0.75229" />
      <inertia
        ixx="0.0004393"
        ixy="0"
        ixz="-0.000269"
        iyy="0.0036465"
        iyz="0"
        izz="0.0036369" />
    </inertial>
    <visual>
      <origin
        xyz="0 0 0"
        rpy="0 0 0" />
      <geometry>
        <mesh
          filename="package://openloong_description/meshes/Link_r_ankle_roll.STL" />
      </geometry>
      <material
        name="">
        <color
          rgba="0.89804 0.91765 0.92941 1" />
      </material>
    </visual>
    <collision>
      <origin
        xyz="0 0 0"
        rpy="0 0 0" />
      <geometry>
        <mesh
          filename="package://openloong_description/meshes/Link_r_ankle_roll.STL" />
      </geometry>
    </collision>
  </link>
  <joint
    name="r_ankle_roll"
    type="revolute">
    <origin
      xyz="0 0 0"
      rpy="0 0 0" />
    <parent
      link="Link_r_ankle_pitch" />
    <child
      link="Link_r_ankle_roll" />
    <axis
      xyz="1 0 0" />
    <limit
      lower="-0.43633"
      upper="0.43633"
      effort="58.5"
      velocity="48.8" />
  </joint>
  <link
    name="Link_hip_l_roll">
    <inertial>
      <origin
        xyz="0.075725 -0.00093843 0.016591"
        rpy="0 0 0" />
      <mass
        value="2.4334" />
      <inertia
        ixx="0.0034464"
        ixy="9E-07"
        ixz="0.0001904"
        iyy="0.0042569"
        iyz="-6.6E-06"
        izz="0.0039063" />
    </inertial>
    <visual>
      <origin
        xyz="0 0 0"
        rpy="0 0 0" />
      <geometry>
        <mesh
          filename="package://openloong_description/meshes/Link_hip_l_roll.STL" />
      </geometry>
      <material
        name="">
        <color
          rgba="0.89804 0.91765 0.92941 1" />
      </material>
    </visual>
    <!-- <collision>
      <origin
        xyz="0 0 0"
        rpy="0 0 0" />
      <geometry>
        <mesh
          filename="package://openloong_description/meshes/Link_hip_l_roll.STL" />
      </geometry>
    </collision> -->
  </link>
  <joint
    name="l_hip_roll"
    type="revolute">
    <origin
      xyz="-0.0875 0.12 -0.069"
      rpy="0 0 0" />
    <parent
      link="Link_waist_yaw" />
    <child
      link="Link_hip_l_roll" />
    <axis
      xyz="1 0 0" />
    <limit
      lower="-0.17453"
      upper="0.43633"
      effort="320"
      velocity="20.94" />
  </joint>
  <link
    name="Link_hip_l_yaw">
    <inertial>
      <origin
        xyz="-3.1716E-08 0.0071358 -0.10063"
        rpy="0 0 0" />
      <mass
        value="3.4304" />
      <inertia
        ixx="0.0077365"
        ixy="0"
        ixz="0"
        iyy="0.0080807"
        iyz="-0.0001167"
        izz="0.0066409" />
    </inertial>
    <visual>
      <origin
        xyz="0 0 0"
        rpy="0 0 0" />
      <geometry>
        <mesh
          filename="package://openloong_description/meshes/Link_hip_l_yaw.STL" />
      </geometry>
      <material
        name="">
        <color
          rgba="0.89804 0.91765 0.92941 1" />
      </material>
    </visual>
    <!-- <collision>
      <origin
        xyz="0 0 0"
        rpy="0 0 0" />
      <geometry>
        <mesh
          filename="package://openloong_description/meshes/Link_hip_l_yaw.STL" />
      </geometry>
    </collision> -->
  </link>
  <joint
    name="l_hip_yaw"
    type="revolute">
    <origin
      xyz="0.08225 -0.001 -0.01"
      rpy="0 0 0" />
    <parent
      link="Link_hip_l_roll" />
    <child
      link="Link_hip_l_yaw" />
    <axis
      xyz="0 0 1" />
    <limit
      lower="-0.69813"
      upper="0.69813"
      effort="160"
      velocity="19.63" />
  </joint>
  <link
    name="Link_hip_l_pitch">
    <inertial>
      <origin
        xyz="0.0010856 0.05497 -0.14535"
        rpy="0 0 0" />
      <mass
        value="5.2378" />
      <inertia
        ixx="0.043457"
        ixy="-0.0002479"
        ixz="-0.0007626"
        iyy="0.037801"
        iyz="0.0007431"
        izz="0.015183" />
    </inertial>
    <visual>
      <origin
        xyz="0 0 0"
        rpy="0 0 0" />
      <geometry>
        <mesh
          filename="package://openloong_description/meshes/Link_hip_l_pitch.STL" />
      </geometry>
      <material
        name="">
        <color
          rgba="0.69804 0.69804 0.69804 1" />
      </material>
    </visual>
    <collision>
      <origin
        xyz="0 0 0"
        rpy="0 0 0" />
      <geometry>
        <mesh
          filename="package://openloong_description/meshes/Link_hip_l_pitch.STL" />
      </geometry>
    </collision>
  </link>
  <joint
    name="l_hip_pitch"
    type="revolute">
    <origin
      xyz="0 -0.03675 -0.1055"
      rpy="0 -0.4 0" />
    <parent
      link="Link_hip_l_yaw" />
    <child
      link="Link_hip_l_pitch" />
    <axis
      xyz="0 -1 0" />
    <limit
      lower="-0.78540"
      upper="1.83260"
      effort="396"
      velocity="19.16" />
  </joint>
  <link
    name="Link_knee_l_pitch">
    <inertial>
      <origin
        xyz="-0.0096425 -2.8684E-06 -0.13601"
        rpy="0 0 0" />
      <mass
        value="2.9775" />
      <inertia
        ixx="0.023859"
        ixy="-6.76E-05"
        ixz="-0.0004656"
        iyy="0.024183"
        iyz="0.000548"
        izz="0.0023083" />
    </inertial>
    <visual>
      <origin
        xyz="0 0 0"
        rpy="0 0 0" />
      <geometry>
        <mesh
          filename="package://openloong_description/meshes/Link_knee_l_pitch.STL" />
      </geometry>
      <material
        name="">
        <color
          rgba="0.66667 0.69804 0.76863 1" />
      </material>
    </visual>
    <!-- <collision>
      <origin
        xyz="0 0 0"
        rpy="0 0 0" />
      <geometry>
        <mesh
          filename="package://openloong_description/meshes/Link_knee_l_pitch.STL" />
      </geometry>
    </collision> -->
    <collision>
      <origin xyz="0 0 -0.2" rpy="0 0 0" />
      <geometry>
        <cylinder radius="0.05" length="0.2"/>
      </geometry>
    </collision>
  </link>
  <joint
    name="l_knee_pitch"
    type="revolute">
    <origin
      xyz="0 0.01125 -0.4"
      rpy="0 0.8 0" />
    <parent
      link="Link_hip_l_pitch" />
    <child
      link="Link_knee_l_pitch" />
    <axis
      xyz="0 -1 0" />
    <limit
      lower="-2.35619"
      upper="0.08727"
      effort="396"
      velocity="19.16" />
  </joint>
  <link
    name="Link_l_ankle_pitch">
    <inertial>
      <origin
        xyz="-6.1835E-12 1.2655E-07 6.7022E-08"
        rpy="0 0 0" />
      <mass
        value="0.10145" />
      <inertia
        ixx="2.7175E-05"
        ixy="-1.0023E-14"
        ixz="-8.1752E-13"
        iyy="6.1118E-06"
        iyz="-2.6285E-11"
        izz="2.6565E-05" />
    </inertial>
    <visual>
      <origin
        xyz="0 0 0"
        rpy="0 0 0" />
      <geometry>
        <mesh
          filename="package://openloong_description/meshes/Link_l_ankle_pitch.STL" />
      </geometry>
      <material
        name="">
        <color
          rgba="0.52941 0.54902 0.54902 1" />
      </material>
    </visual>
    <!-- <collision>
      <origin
        xyz="0 0 0"
        rpy="0 0 0" />
      <geometry>
        <mesh
          filename="package://openloong_description/meshes/Link_l_ankle_pitch.STL" />
      </geometry>
    </collision> -->
  </link>
  <joint
    name="l_ankle_pitch"
    type="revolute">
    <origin
      xyz="0 0 -0.387"
      rpy="0 -0.4 0" />
    <parent
      link="Link_knee_l_pitch" />
    <child
      link="Link_l_ankle_pitch" />
    <axis
      xyz="0 -1 0" />
    <limit
      lower="-0.43644"
      upper="0.61087"
      effort="58.5"
      velocity="48.8" />
  </joint>
  <link
    name="Link_l_ankle_roll">
    <inertial>
      <origin
        xyz="0.041077 -2.9318E-08 -0.043909"
        rpy="0 0 0" />
      <mass
        value="0.7522882" />
      <inertia
        ixx="0.0004393"
        ixy="0"
        ixz="-0.000269"
        iyy="0.0036465"
        iyz="0"
        izz="0.0036369" />
    </inertial>
    <visual>
      <origin
        xyz="0 0 0"
        rpy="0 0 0" />
      <geometry>
        <mesh
          filename="package://openloong_description/meshes/Link_l_ankle_roll.STL" />
      </geometry>
      <material
        name="">
        <color
          rgba="0.89804 0.91765 0.92941 1" />
      </material>
    </visual>
    <collision>
      <origin
        xyz="0 0 0"
        rpy="0 0 0" />
      <geometry>
        <mesh
          filename="package://openloong_description/meshes/Link_l_ankle_roll.STL" />
      </geometry>
    </collision>
  </link>
  <joint
    name="l_ankle_roll"
    type="revolute">
    <origin
      xyz="0 0 0"
      rpy="0 0 0" />
    <parent
      link="Link_l_ankle_pitch" />
    <child
      link="Link_l_ankle_roll" />
    <axis
      xyz="1 0 0" />
    <limit
      lower="-0.43633"
      upper="0.43633"
      effort="58.5"
      velocity="48.8" />
  </joint>

  <!-- ############################################################ -->

  <link name="imu_link">
    <visual>
      <geometry>
        <box size="0.05 0.05 0.02"/>
      </geometry>
      <material name="">
        <color rgba="0.75294 0.75294 0.75294 1"/>
      </material>
    </visual>
  </link>
  <joint name="z_joint_imu" type="fixed">
    <origin xyz="-0.0648 0 -0.1015" rpy="0 0 0"/>
    <parent link="base_link"/>
    <child link="imu_link"/>
  </joint>

  <!-- ############################################################ -->

  <transmission name="l_hip_roll_tran">
    <type>transmission_interface/SimpleTransmission</type>
    <joint name="l_hip_roll">
      <hardwareInterface>hardware_interface/EffortJointInterface</hardwareInterface>
    </joint>
    <actuator name="l_hip_roll_motor">
      <hardwareInterface>hardware_interface/EffortJointInterface</hardwareInterface>
      <mechanicalReduction>&quot;1&quot;</mechanicalReduction>
    </actuator>
  </transmission>
  <transmission name="l_hip_yaw_tran">
    <type>transmission_interface/SimpleTransmission</type>
    <joint name="l_hip_yaw">
      <hardwareInterface>hardware_interface/EffortJointInterface</hardwareInterface>
    </joint>
    <actuator name="l_hip_yaw_motor">
      <hardwareInterface>hardware_interface/EffortJointInterface</hardwareInterface>
      <mechanicalReduction>&quot;1&quot;</mechanicalReduction>
    </actuator>
  </transmission>
  <transmission name="l_hip_pitch_tran">
    <type>transmission_interface/SimpleTransmission</type>
    <joint name="l_hip_pitch">
      <hardwareInterface>hardware_interface/EffortJointInterface</hardwareInterface>
    </joint>
    <actuator name="l_hip_pitch_motor">
      <hardwareInterface>hardware_interface/EffortJointInterface</hardwareInterface>
      <mechanicalReduction>&quot;1&quot;</mechanicalReduction>
    </actuator>
  </transmission>
  <transmission name="l_knee_pitch_tran">
    <type>transmission_interface/SimpleTransmission</type>
    <joint name="l_knee_pitch">
      <hardwareInterface>hardware_interface/EffortJointInterface</hardwareInterface>
    </joint>
    <actuator name="l_knee_pitch_motor">
      <hardwareInterface>hardware_interface/EffortJointInterface</hardwareInterface>
      <mechanicalReduction>&quot;1&quot;</mechanicalReduction>
    </actuator>
  </transmission>
  <transmission name="l_ankle_pitch_tran">
    <type>transmission_interface/SimpleTransmission</type>
    <joint name="l_ankle_pitch">
      <hardwareInterface>hardware_interface/EffortJointInterface</hardwareInterface>
    </joint>
    <actuator name="l_ankle_pitch_motor">
      <hardwareInterface>hardware_interface/EffortJointInterface</hardwareInterface>
      <mechanicalReduction>&quot;1&quot;</mechanicalReduction>
    </actuator>
  </transmission>
  <transmission name="l_ankle_roll_tran">
    <type>transmission_interface/SimpleTransmission</type>
    <joint name="l_ankle_roll">
      <hardwareInterface>hardware_interface/EffortJointInterface</hardwareInterface>
    </joint>
    <actuator name="l_ankle_roll_motor">
      <hardwareInterface>hardware_interface/EffortJointInterface</hardwareInterface>
      <mechanicalReduction>&quot;1&quot;</mechanicalReduction>
    </actuator>
  </transmission>

  <transmission name="r_hip_roll_tran">
    <type>transmission_interface/SimpleTransmission</type>
    <joint name="r_hip_roll">
      <hardwareInterface>hardware_interface/EffortJointInterface</hardwareInterface>
    </joint>
    <actuator name="r_hip_roll_motor">
      <hardwareInterface>hardware_interface/EffortJointInterface</hardwareInterface>
      <mechanicalReduction>&quot;1&quot;</mechanicalReduction>
    </actuator>
  </transmission>
  <transmission name="r_hip_yaw_tran">
    <type>transmission_interface/SimpleTransmission</type>
    <joint name="r_hip_yaw">
      <hardwareInterface>hardware_interface/EffortJointInterface</hardwareInterface>
    </joint>
    <actuator name="r_hip_yaw_motor">
      <hardwareInterface>hardware_interface/EffortJointInterface</hardwareInterface>
      <mechanicalReduction>&quot;1&quot;</mechanicalReduction>
    </actuator>
  </transmission>
  <transmission name="r_hip_pitch_tran">
    <type>transmission_interface/SimpleTransmission</type>
    <joint name="r_hip_pitch">
      <hardwareInterface>hardware_interface/EffortJointInterface</hardwareInterface>
    </joint>
    <actuator name="r_hip_pitch_motor">
      <hardwareInterface>hardware_interface/EffortJointInterface</hardwareInterface>
      <mechanicalReduction>&quot;1&quot;</mechanicalReduction>
    </actuator>
  </transmission>
  <transmission name="r_knee_pitch_tran">
    <type>transmission_interface/SimpleTransmission</type>
    <joint name="r_knee_pitch">
      <hardwareInterface>hardware_interface/EffortJointInterface</hardwareInterface>
    </joint>
    <actuator name="r_knee_pitch_motor">
      <hardwareInterface>hardware_interface/EffortJointInterface</hardwareInterface>
      <mechanicalReduction>&quot;1&quot;</mechanicalReduction>
    </actuator>
  </transmission>
  <transmission name="r_ankle_pitch_tran">
    <type>transmission_interface/SimpleTransmission</type>
    <joint name="r_ankle_pitch">
      <hardwareInterface>hardware_interface/EffortJointInterface</hardwareInterface>
    </joint>
    <actuator name="r_ankle_pitch_motor">
      <hardwareInterface>hardware_interface/EffortJointInterface</hardwareInterface>
      <mechanicalReduction>&quot;1&quot;</mechanicalReduction>
    </actuator>
  </transmission>
  <transmission name="r_ankle_roll_tran">
    <type>transmission_interface/SimpleTransmission</type>
    <joint name="r_ankle_roll">
      <hardwareInterface>hardware_interface/EffortJointInterface</hardwareInterface>
    </joint>
    <actuator name="r_ankle_roll_motor">
      <hardwareInterface>hardware_interface/EffortJointInterface</hardwareInterface>
      <mechanicalReduction>&quot;1&quot;</mechanicalReduction>
    </actuator>
  </transmission>

</robot>
